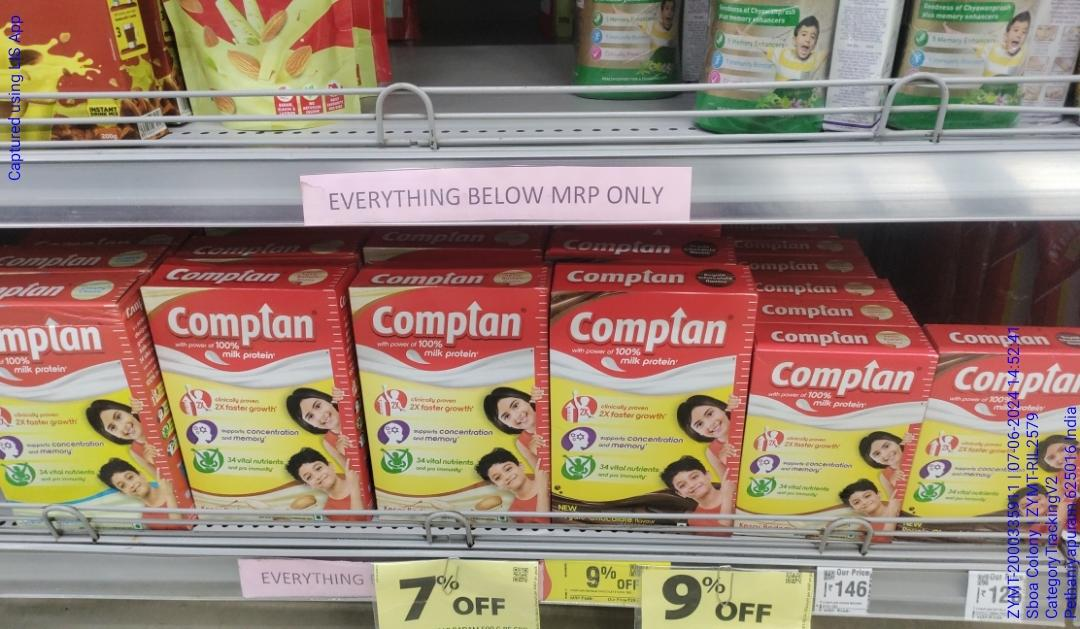COMPLAN_CHOCOLATE_200_GMS_PACK: (910, 351, 1080, 541)
COMPLAN_CHOCOLATE_500_GMS_PACK: (551, 290, 734, 533)
COMPLAN_CREAMY_CLASSIC_500_G_PACK: (0, 301, 136, 536)
COMPLAN_KESAR_BADAM_200_GMS_PACK: (744, 341, 902, 551)
COMPLAN_KESAR_BADAM_500_GMS_PACK: (157, 284, 347, 532), (358, 283, 543, 528)
